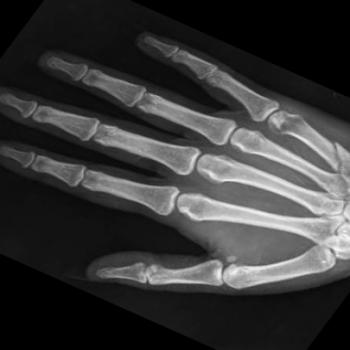Fracture: (328, 140, 350, 173)
